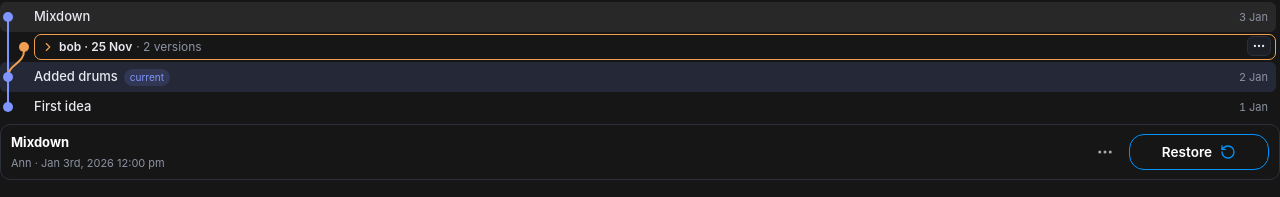
Test: CommitGraph version rail › parallel versions folded into the rail › has a ⋯ menu with more actions for it
Click the button named "More for bob · 25 Nov".
click(1259, 46)  # box [1247, 36, 1271, 56]
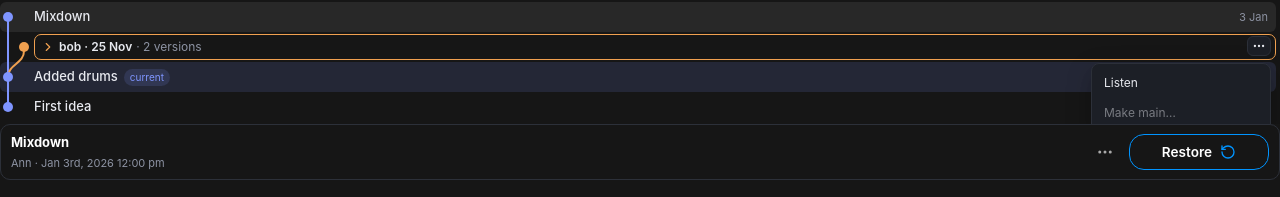
expect the menu item "Make main…" is disabled: met, box [1096, 98, 1266, 124]
Click the menu item "Listen".
click(1181, 83)  # box [1096, 68, 1266, 98]
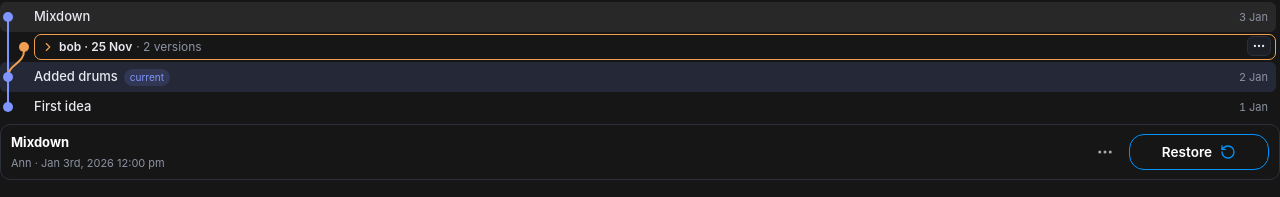
expect the menu is gone: met
